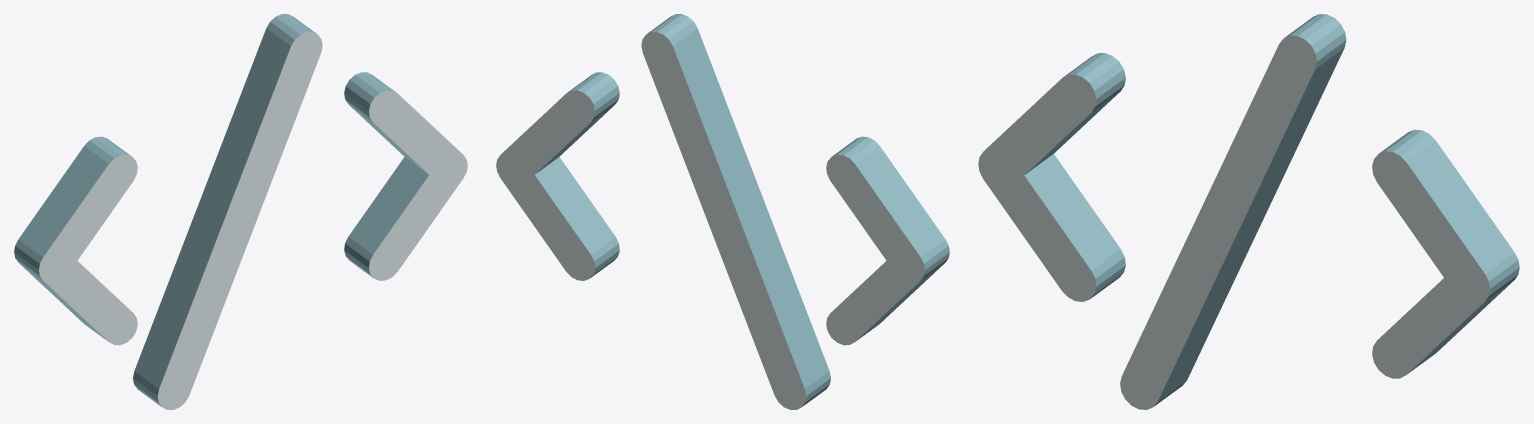
File: codicon_code_v01.glb
3 views of the same model, side by side, from view 1: azimuth 30°, elevation 25°; view 2: azimuth 150°, elevation 25°; view 3: azimuth 330°, elevation 25° (orthographic). The views are drawn at different scales.
Visible parts, largest first — view 1: codicon_code; view 2: codicon_code; view 3: codicon_code.
Part boxes in pixels (x1,y1,x2,y2): codicon_code: (14, 14, 467, 409); codicon_code: (496, 14, 949, 409); codicon_code: (978, 14, 1519, 409).
Size of the model in its own units: 0.6 by 0.4615 by 0.06.
Materials: 1 (1 with a texture image).
